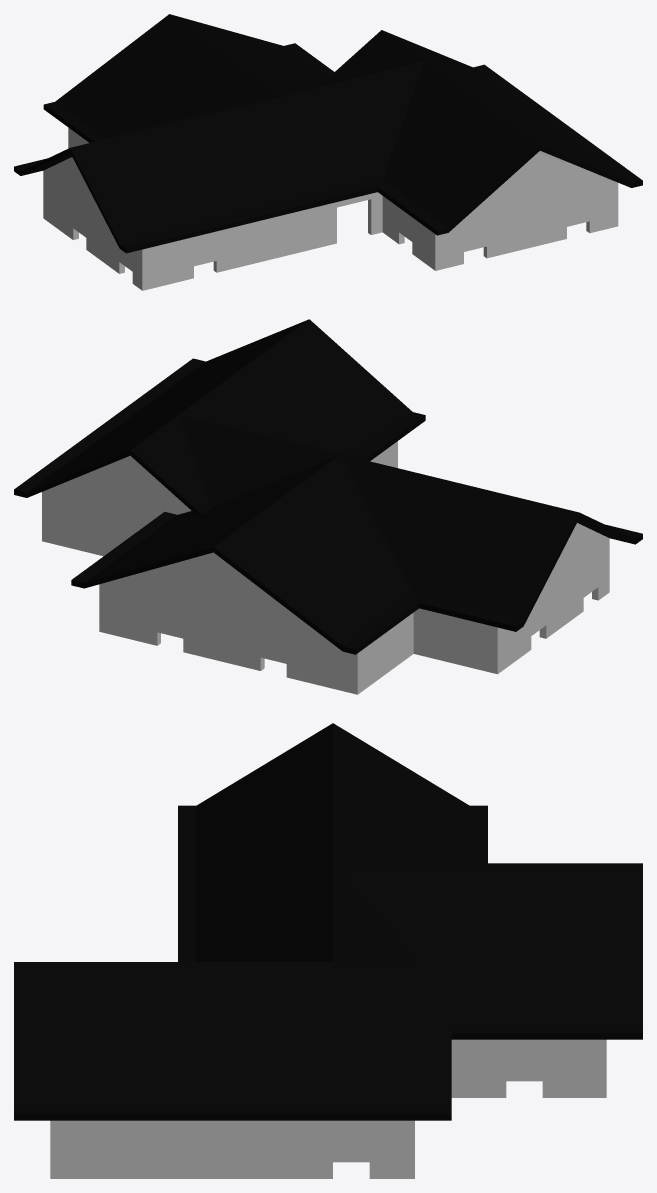
File: top.glb
The picture shows the model from 3 angles, top to bottom: view 1: azimuth 30°, elevation 25°; view 2: azimuth 150°, elevation 25°; view 3: azimuth 270°, elevation 25°; orthographic projection. The views are drawn at different scales.
Visible parts, largest first — view 1: Roof, Walls.001; view 2: Roof, Walls.001; view 3: Roof, Walls.001.
Boxes of the visible parts, x1,y1,x2,y2 form: Roof: (14,14,642,253); Walls.001: (43,127,618,290); Roof: (14,319,642,654); Walls.001: (42,441,609,694); Roof: (14,723,642,1120); Walls.001: (50,1039,606,1178).
Bounding box in the file's own units: 40 × 9.4 × 34.5.
2 materials, 2 textured.
